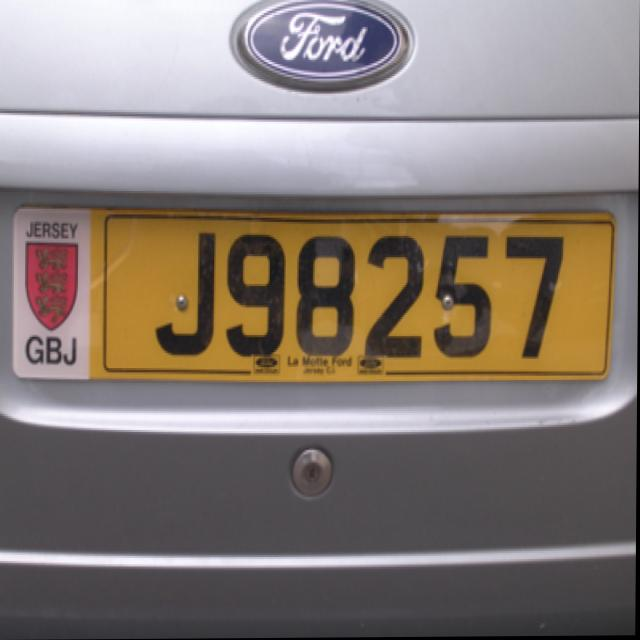licence: (15, 203, 613, 384)
